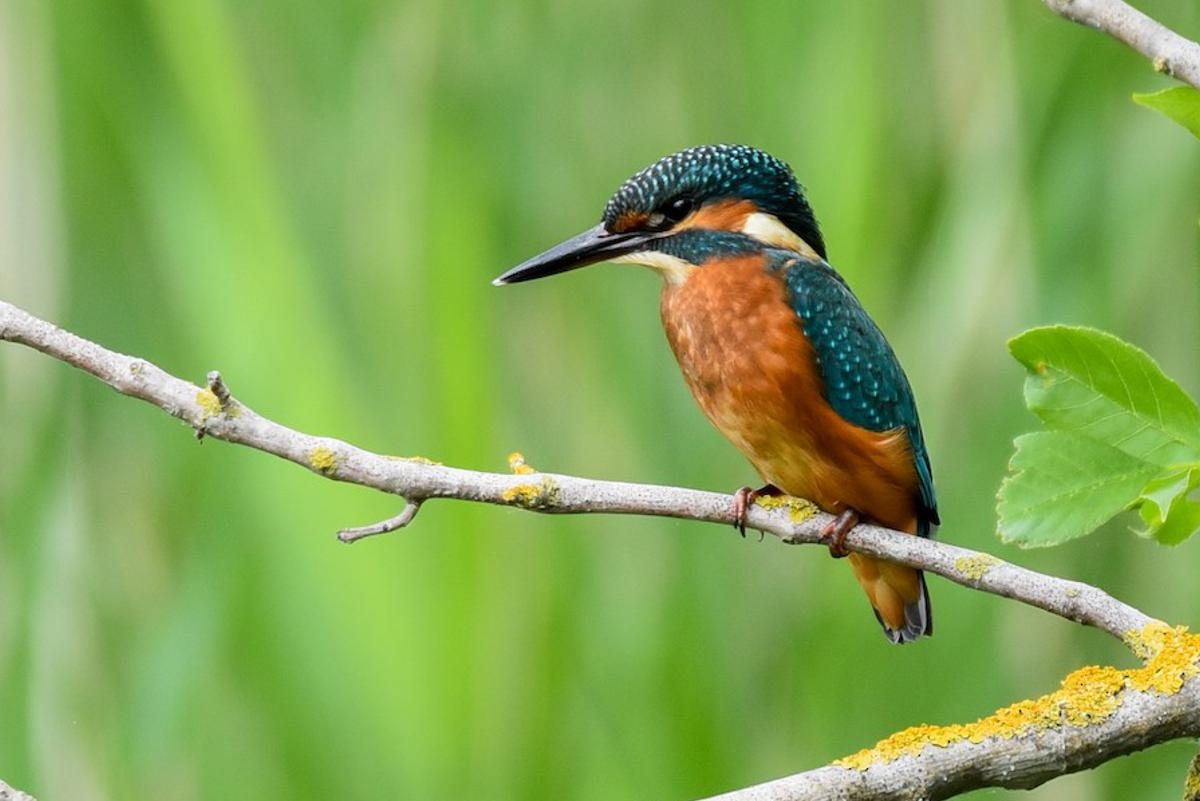kingfisher: (505, 121, 950, 679)
